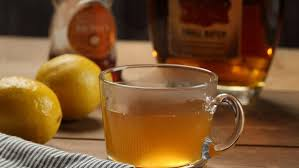Lemon: (36, 55, 107, 116), (2, 83, 54, 140)
